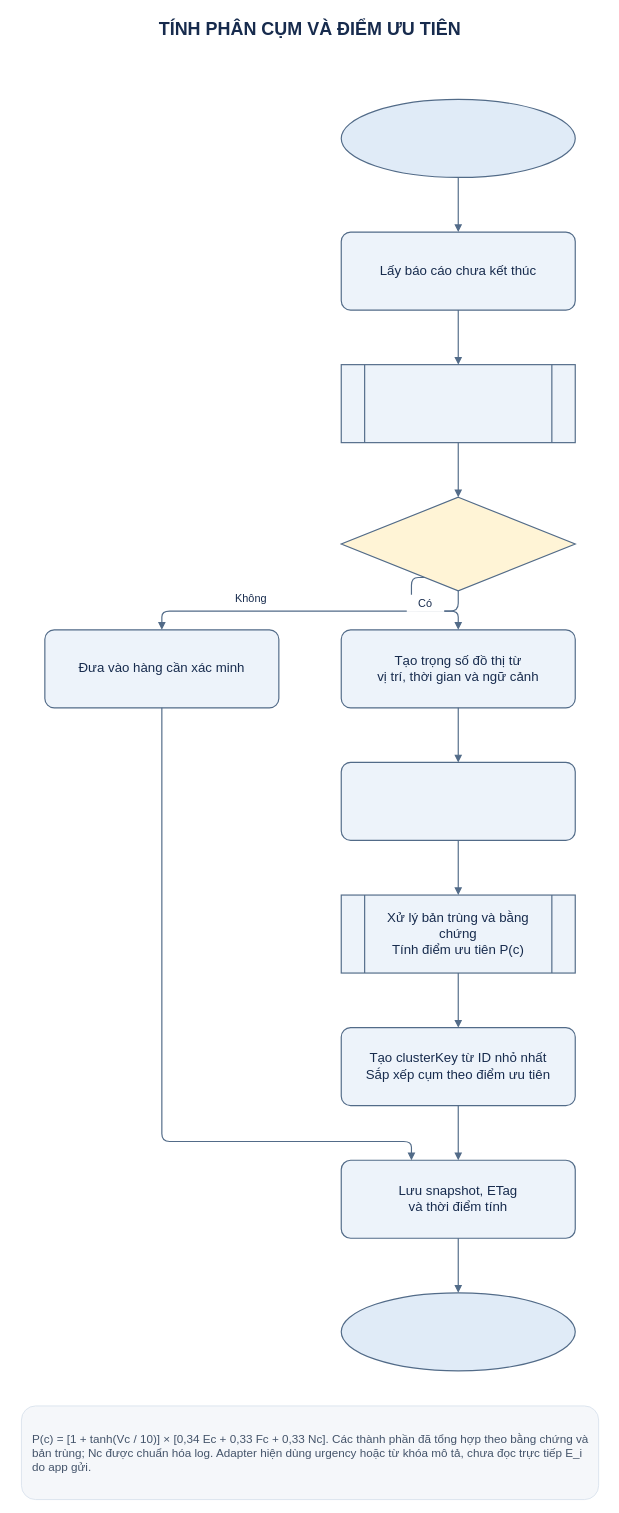
Image size: 619x1513. Some labels were removed from this diagram. Each missing label, with the centre of its shape:
"Cung cấp cụm và hàng xác minh" goes at [457,1331].
"Dữ liệu cần tính lại" goes at [457,138].
"Phân cụm bằng Louvain" goes at [457,801].
"Vị trí và thời gian hợp lệ?" goes at [457,543].
"Ánh xạ vị trí, thời gian và các thuộc tính E, F, N, V" goes at [457,403].
